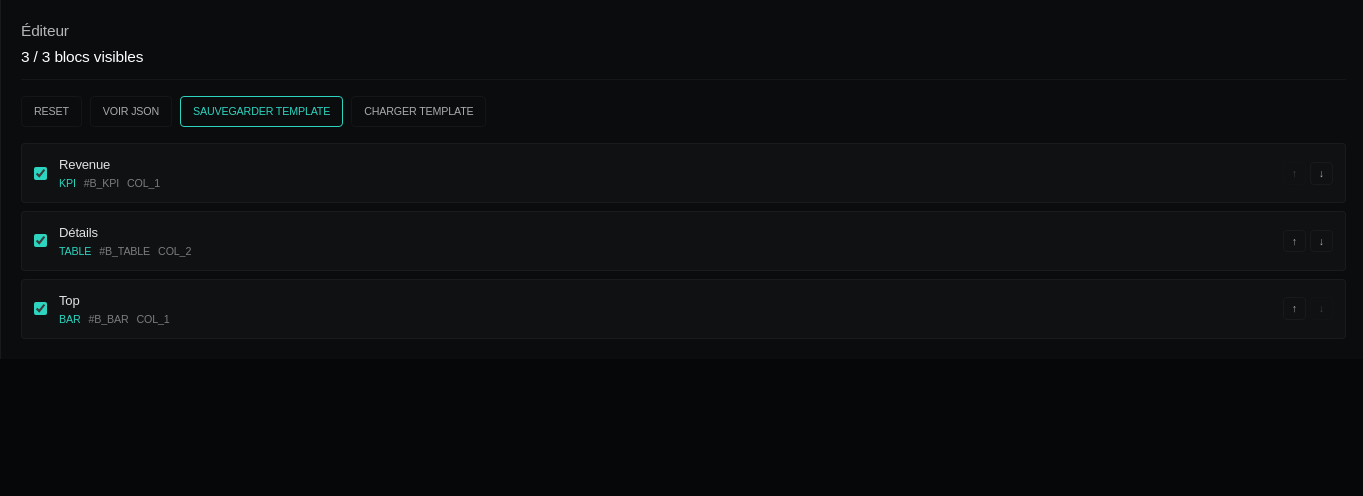
Test: ReportEditor — load template › charge la liste des templates au clic
Click the button with test id "report-editor-load-template" at (419, 112), box [351, 96, 486, 127]
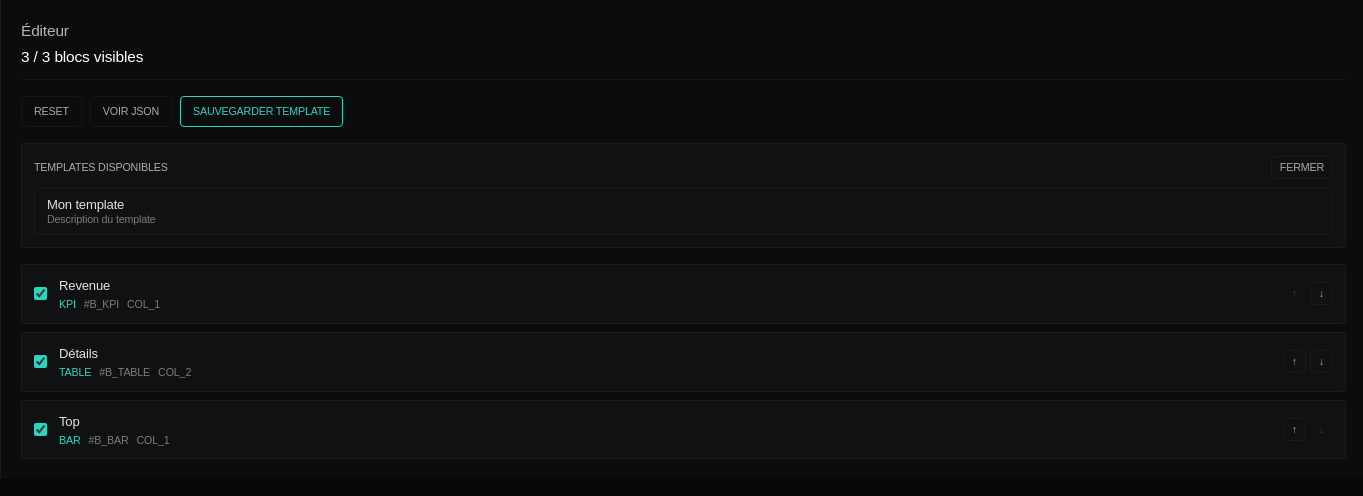
Result: the element with test id "report-editor-load-list" is shown at [21, 143, 1346, 248]
